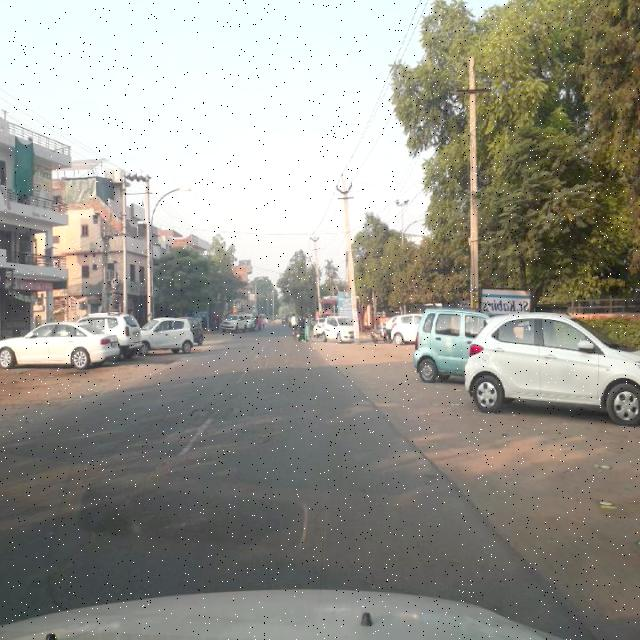D40: (190, 401, 218, 419)
